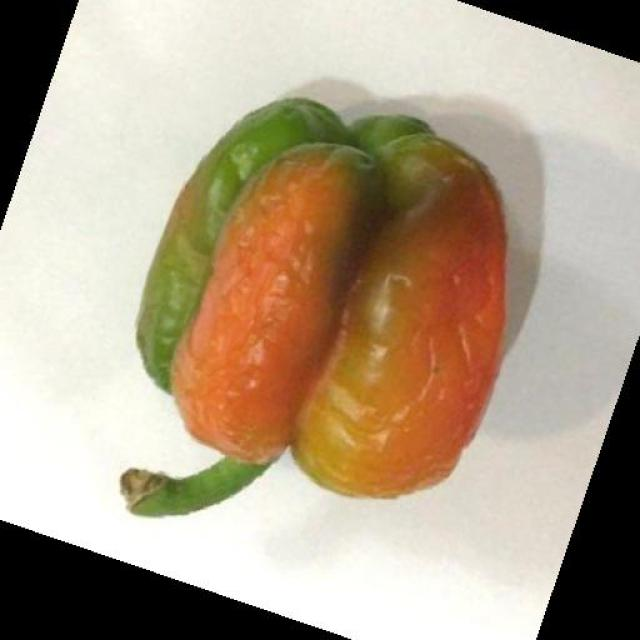Stale_Capsicum: (110, 75, 490, 493)
